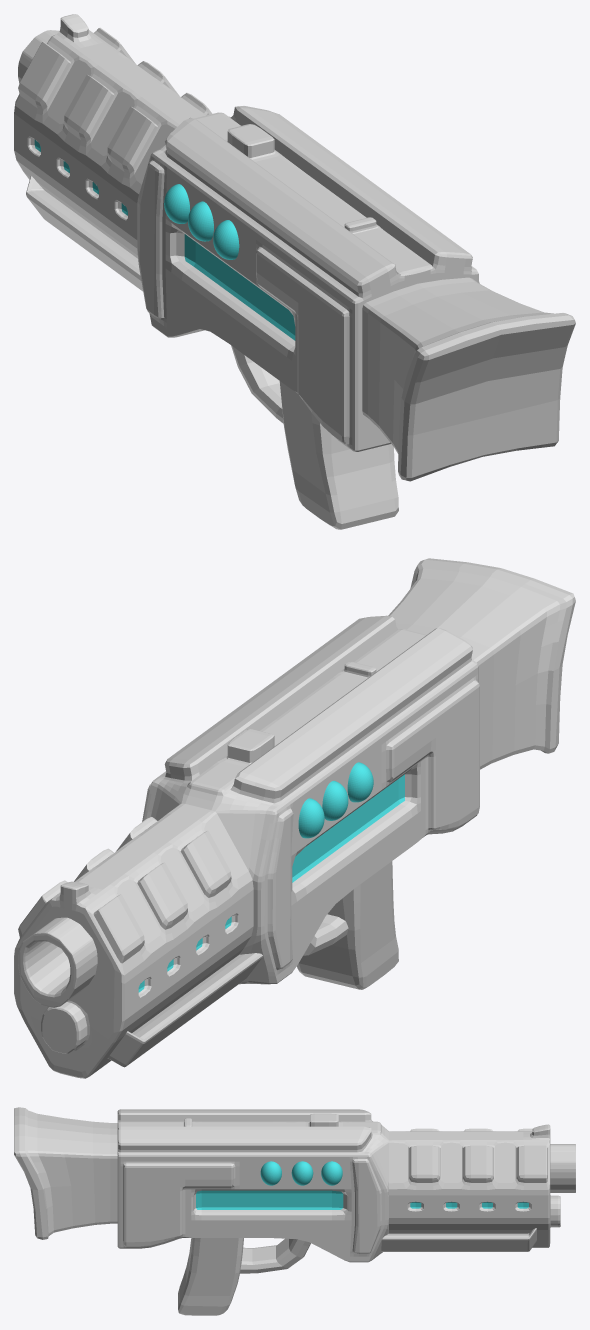
Rendered from weapon.fbx.
3 renders of one model, top to bottom at view 1: azimuth 30°, elevation 25°; view 2: azimuth 150°, elevation 25°; view 3: azimuth 270°, elevation 25°, orthographic. The views are drawn at different scales.
Visible parts, largest first — view 1: Cube; view 2: Cube; view 3: Cube.
Part boxes in pixels (x1,y1,x2,y2): Cube: (14, 14, 575, 529); Cube: (14, 558, 575, 1078); Cube: (14, 1107, 575, 1315).
Size of the model in its own units: 281 by 1419 by 529.
